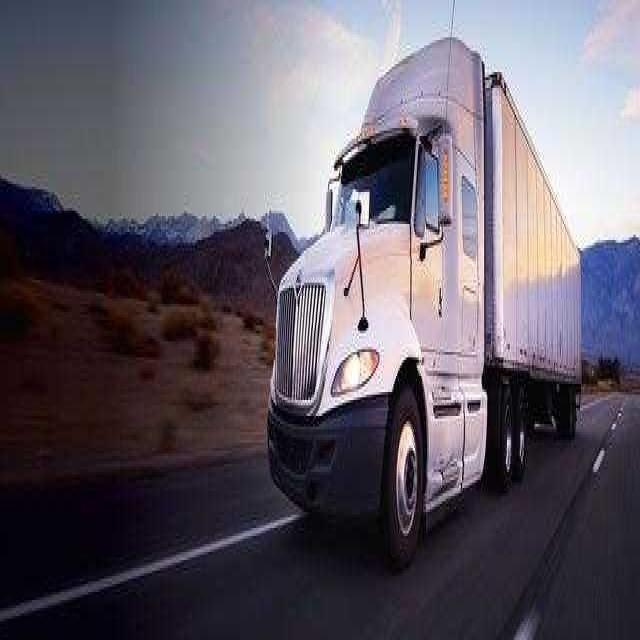Truck: (260, 29, 588, 576)
